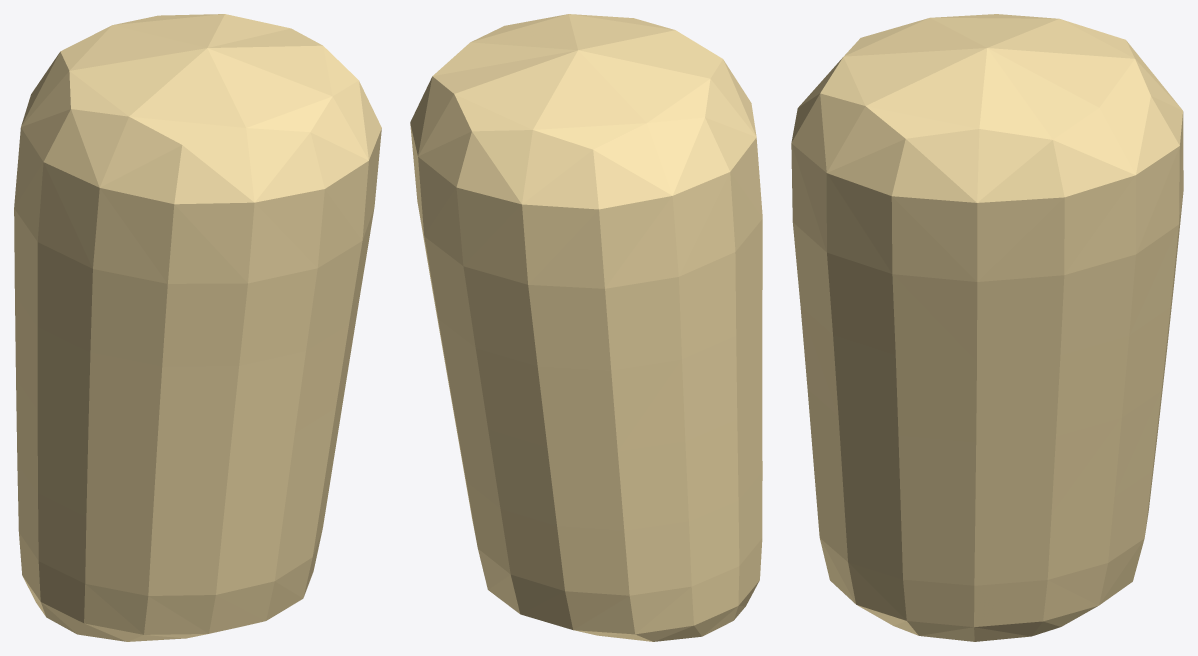
Rendered from rightLeg.obj.
3 views of the same model, side by side, from view 1: azimuth 30°, elevation 25°; view 2: azimuth 150°, elevation 25°; view 3: azimuth 270°, elevation 25° (orthographic). The views are drawn at different scales.
Visible parts, largest first — view 1: 右足; view 2: 右足; view 3: 右足.
Boxes of the visible parts, x1,y1,x2,y2 form: 右足: (14, 14, 381, 641); 右足: (410, 14, 762, 641); 右足: (791, 14, 1183, 641).
Bounding box in the file's own units: 0.0776 × 0.13 × 0.0809.
1 material, 1 textured.
